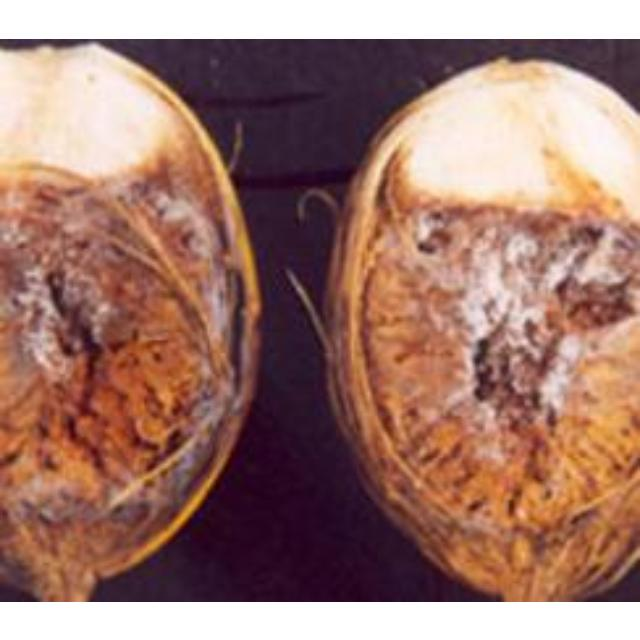damaged: (320, 56, 637, 599), (0, 43, 262, 599)
